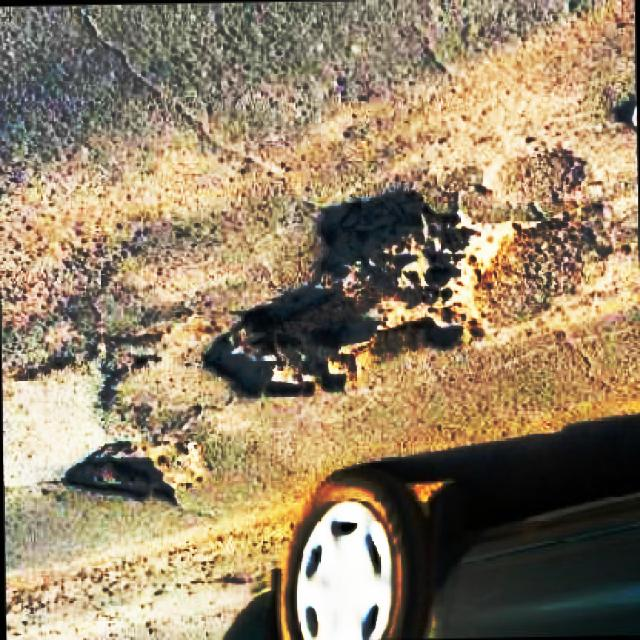pothole: (203, 177, 534, 398), (64, 431, 210, 497)
